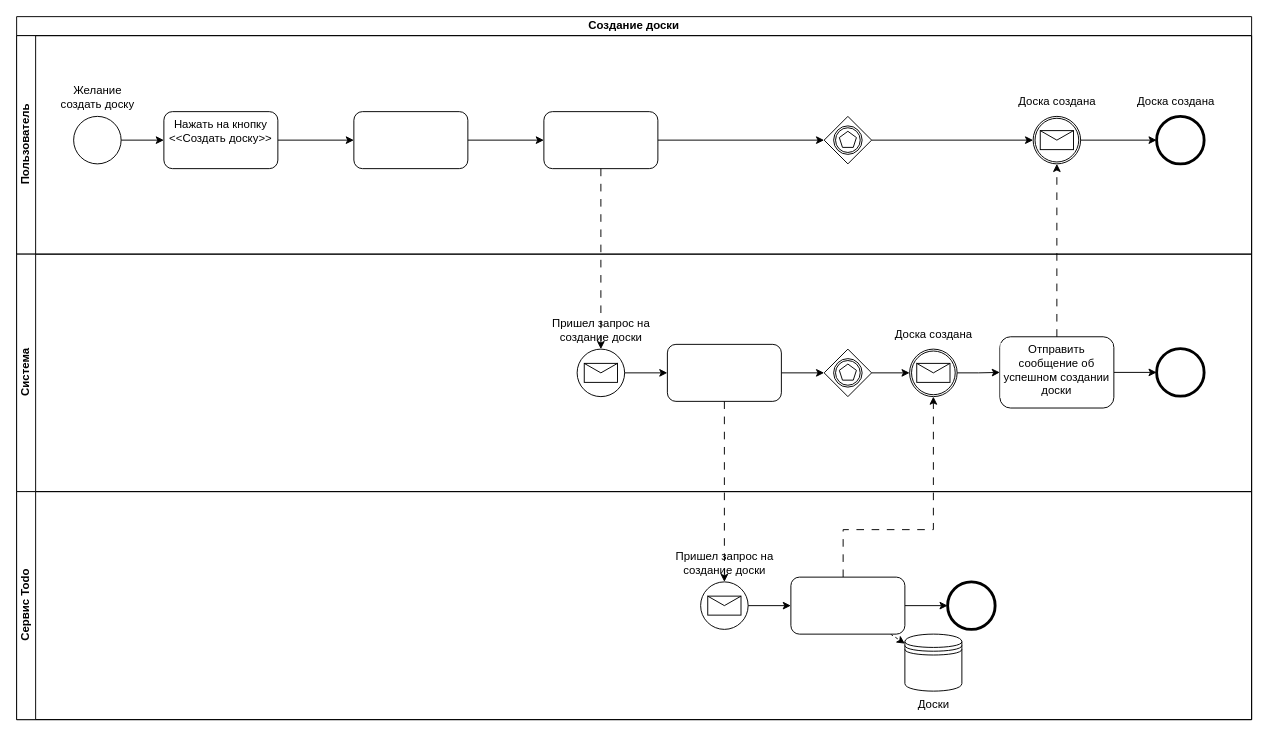
This 1268x736 diagram has some shape labels left out. Each missing label, with the centre of its shape:
"Ввести название доски" goes at point (410, 140).
"Нажать на кнопку <<Создать>>" goes at point (600, 140).
"Передать запрос на создание доски в Todo-сервис" goes at point (723, 372).
"Создать доску" goes at point (847, 605).
